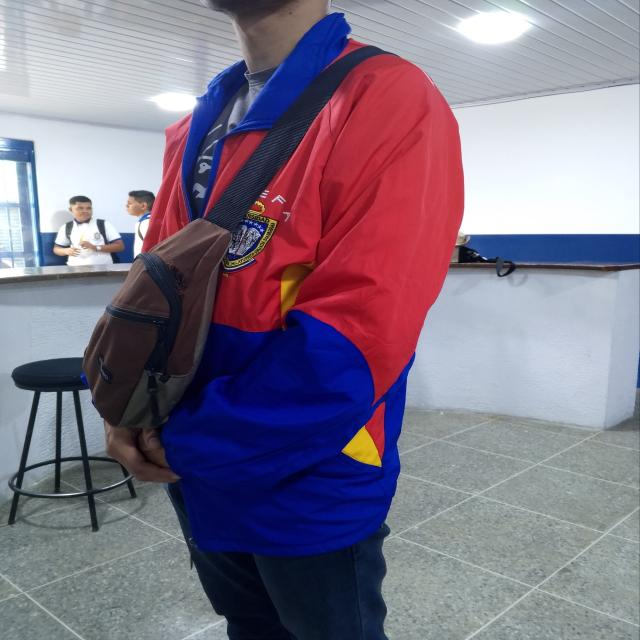chaqueta_unefa: (142, 10, 463, 559)
